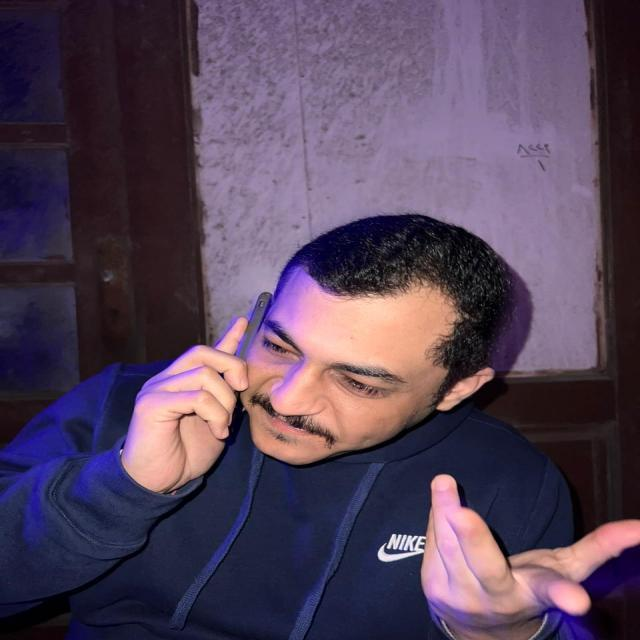phone: (234, 290, 277, 361)
